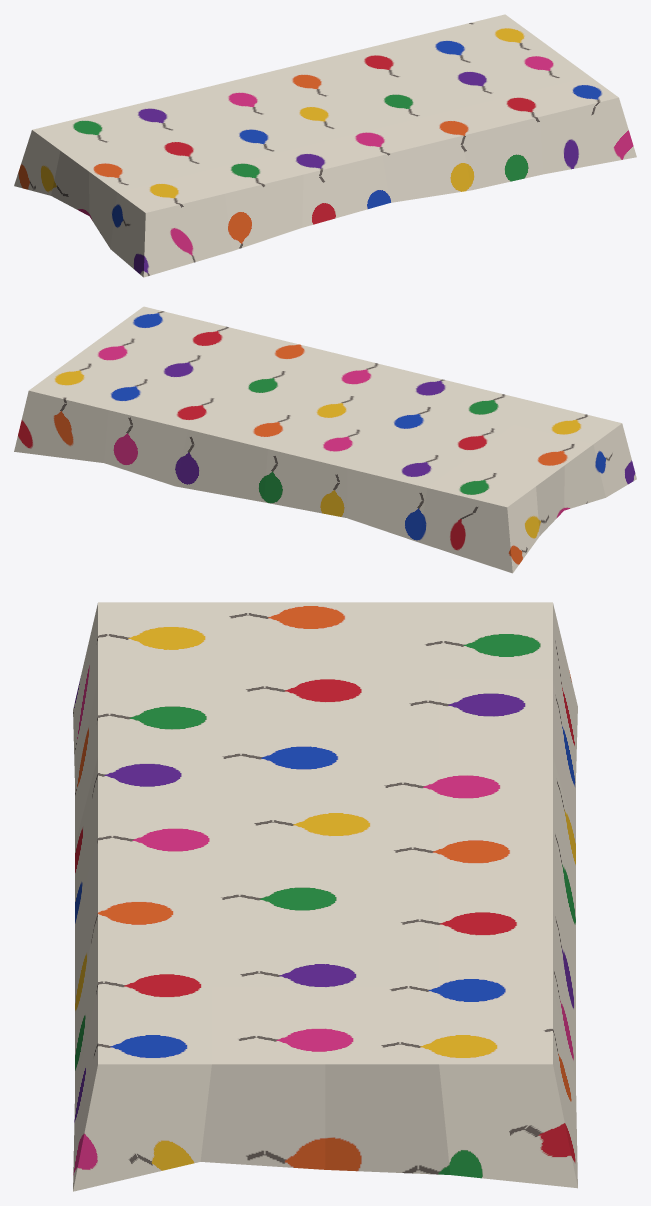
File: party_cloth_rect_balloons.glb
3 views of the same model, one above another, from view 1: azimuth 30°, elevation 25°; view 2: azimuth 150°, elevation 25°; view 3: azimuth 270°, elevation 25° (orthographic). The views are drawn at different scales.
Visible parts, largest first — view 1: party_cloth_rect_balloons_body; view 2: party_cloth_rect_balloons_body; view 3: party_cloth_rect_balloons_body.
Boxes of the visible parts, bbox=[...] form: party_cloth_rect_balloons_body: bbox=[14, 14, 636, 277]; party_cloth_rect_balloons_body: bbox=[14, 306, 636, 573]; party_cloth_rect_balloons_body: bbox=[73, 602, 577, 1191].
Size of the model in its own units: 2.25 by 0.2513 by 0.9893.
Materials: 1 (1 with a texture image).
